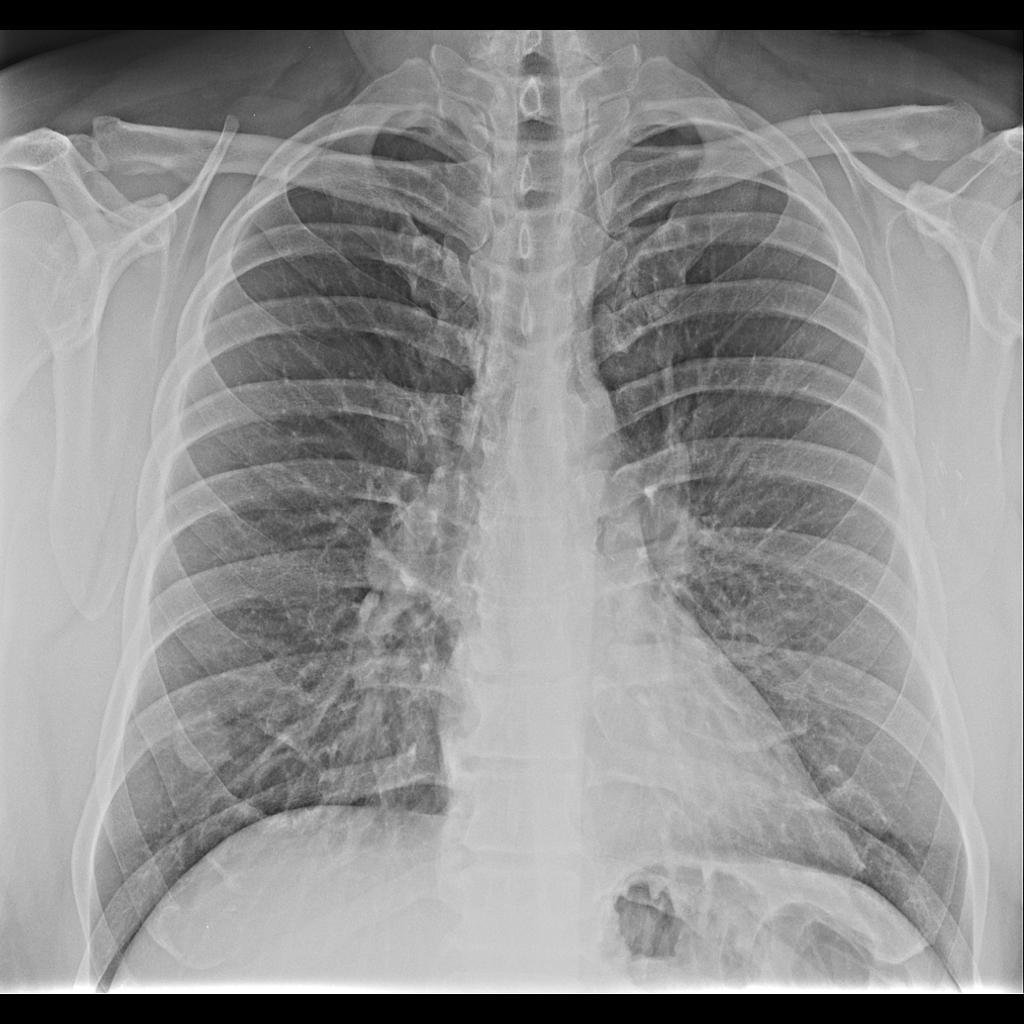Nodule: (164, 702, 249, 777)
